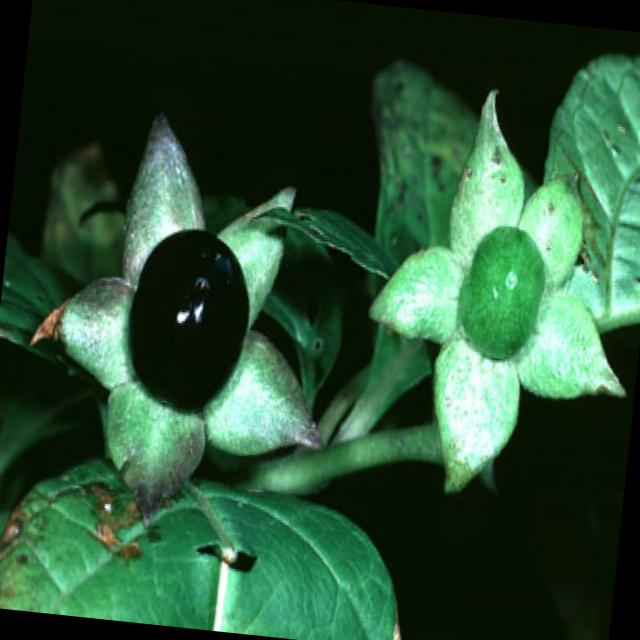Poisonous-Deadly_Nightshade: (20, 101, 356, 534), (342, 70, 640, 524)
